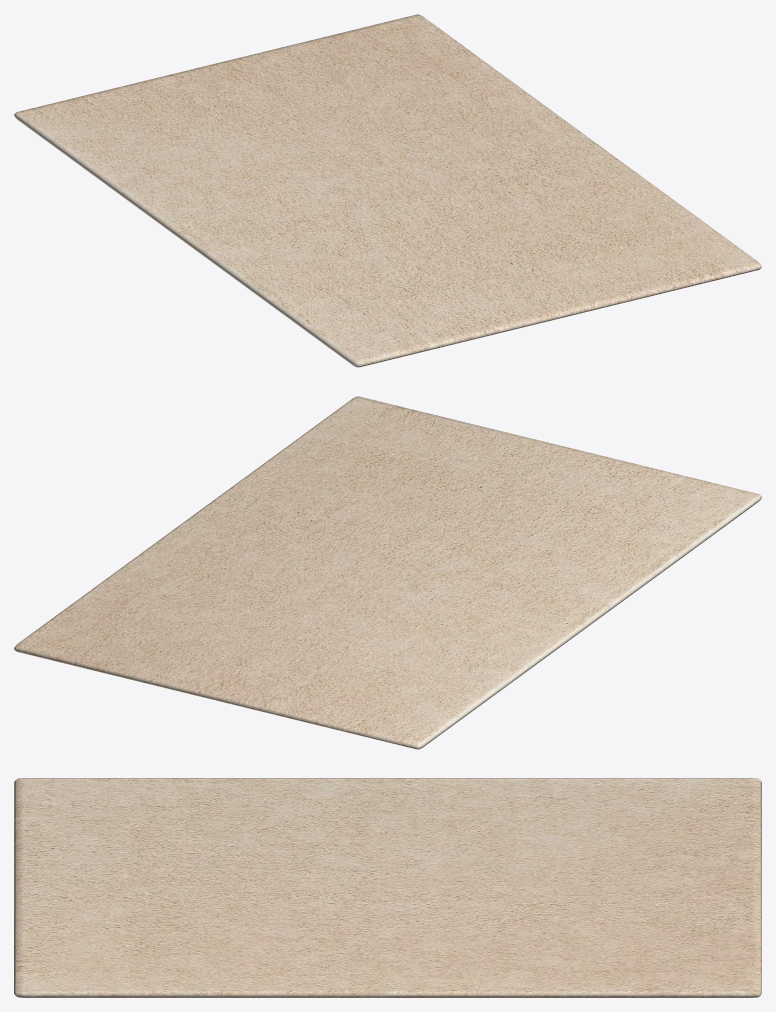
The picture shows the model from 3 angles, top to bottom: view 1: azimuth 30°, elevation 25°; view 2: azimuth 150°, elevation 25°; view 3: azimuth 270°, elevation 25°; orthographic projection. The views are drawn at different scales.
Parts seen in each view (by area): view 1: 10425526_Rug_low_pile; view 2: 10425526_Rug_low_pile; view 3: 10425526_Rug_low_pile.
Boxes of the visible parts, <box> form: 10425526_Rug_low_pile: <box>14,14,761,367</box>; 10425526_Rug_low_pile: <box>14,396,761,749</box>; 10425526_Rug_low_pile: <box>14,778,761,997</box>.
Size of the model in its own units: 1.33 by 0.0179 by 1.95.
1 material, 1 textured.
